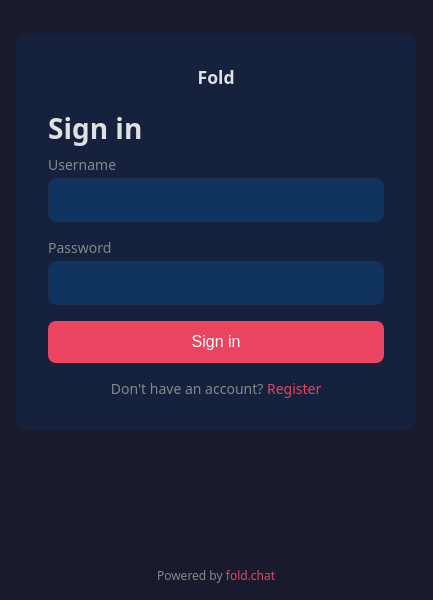
Test: Login error messages › shows "Unable to reach server" on network failure (TypeError)
Type "testuser" into the field labelled "Username" at (216, 200), box [48,178,384,222]
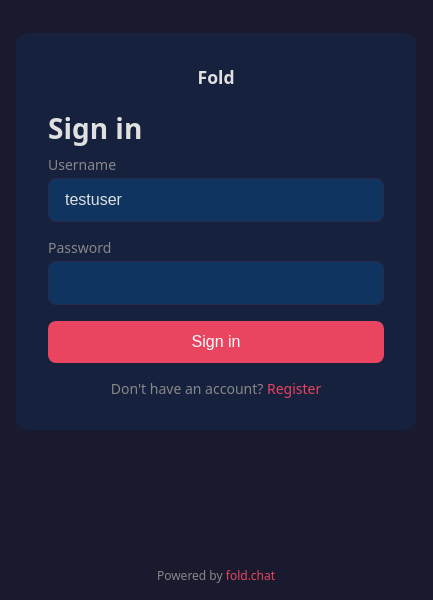
Type "testpass" into the password field labelled "Password" at (216, 283), box [48,261,384,305]
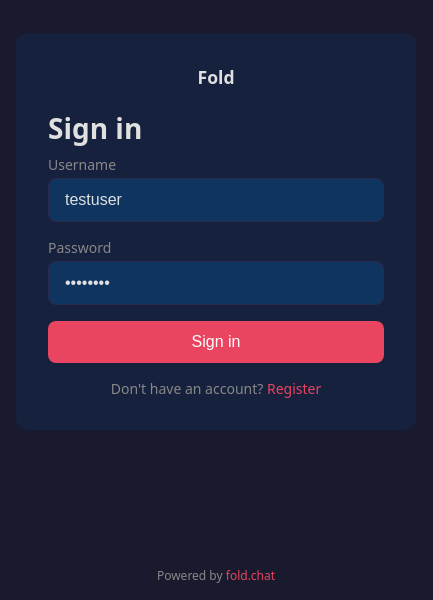
Submit the form labelled "Username", box [48,155,384,363]
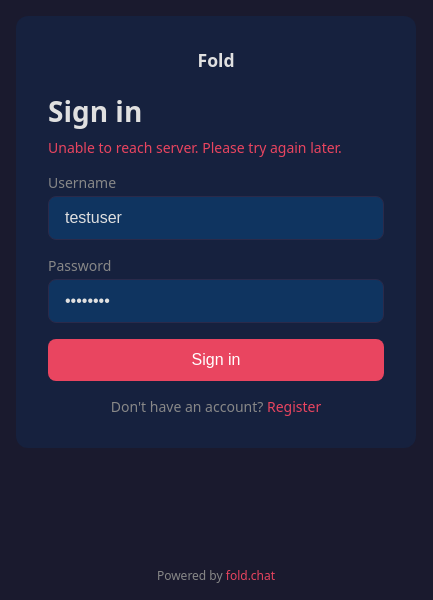
Result: the text "Unable to reach server. Please try again later." is shown at [48,138,384,156]
